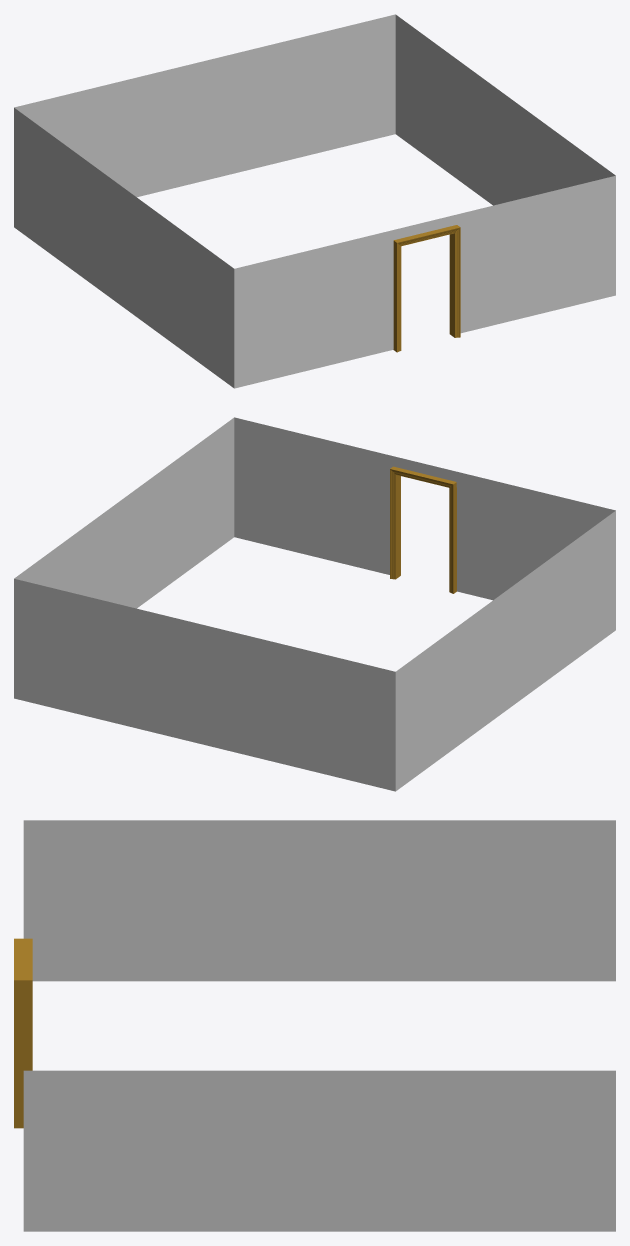
File: archimeshattempt5.fbx
The picture shows the model from 3 angles, top to bottom: view 1: azimuth 30°, elevation 25°; view 2: azimuth 150°, elevation 25°; view 3: azimuth 270°, elevation 25°; orthographic projection. The views are drawn at different scales.
Parts seen in each view (by area): view 1: Room, Cube.010; view 2: Room, Cube.010; view 3: Room, Cube.010.
Boxes of the visible parts, box(x1,y1,x2,y2) form: Room: box(14, 14, 615, 388); Cube.010: box(393, 225, 460, 352); Room: box(14, 417, 615, 791); Cube.010: box(390, 466, 456, 593); Room: box(23, 820, 615, 1231); Cube.010: box(14, 938, 32, 1128).
Bounding box in the file's own units: 800 × 241 × 813.
